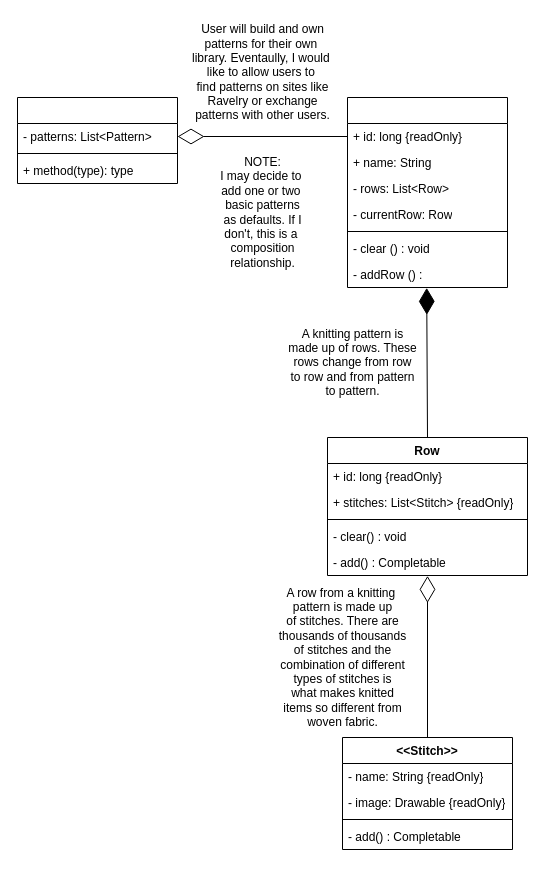
Image size: 545x869. Some labels were removed from this diagram. The box of each missing label's shape, as (x1, y1, x2, y2) in pixels:
Pattern: (346, 96, 508, 288)
User: (16, 96, 178, 184)
